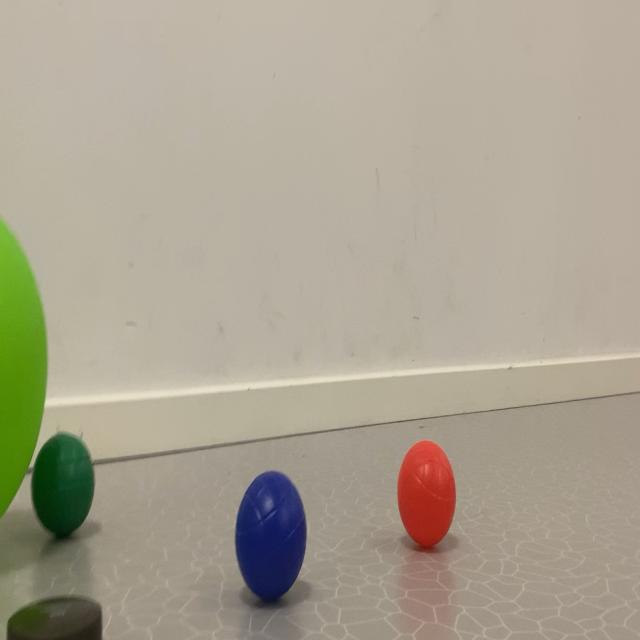7: (367, 354, 482, 620)
blue ball: (18, 437, 520, 580)
green ball: (223, 397, 310, 640)
red ball: (17, 410, 133, 559)
